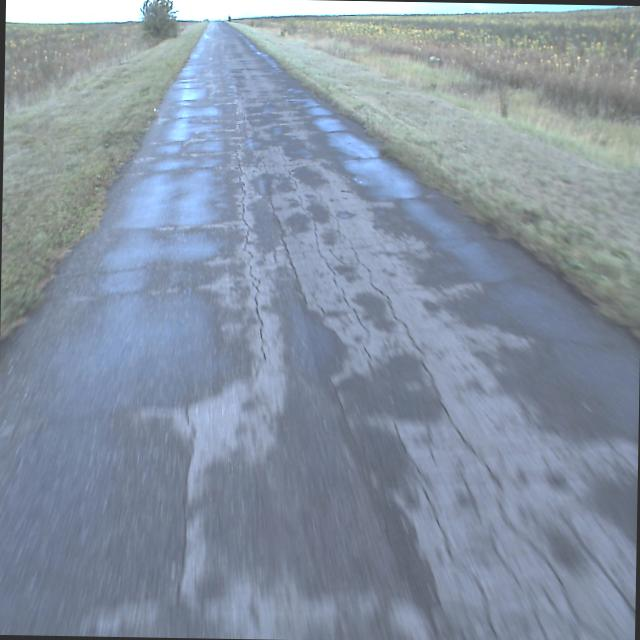road: (0, 20, 639, 640)
